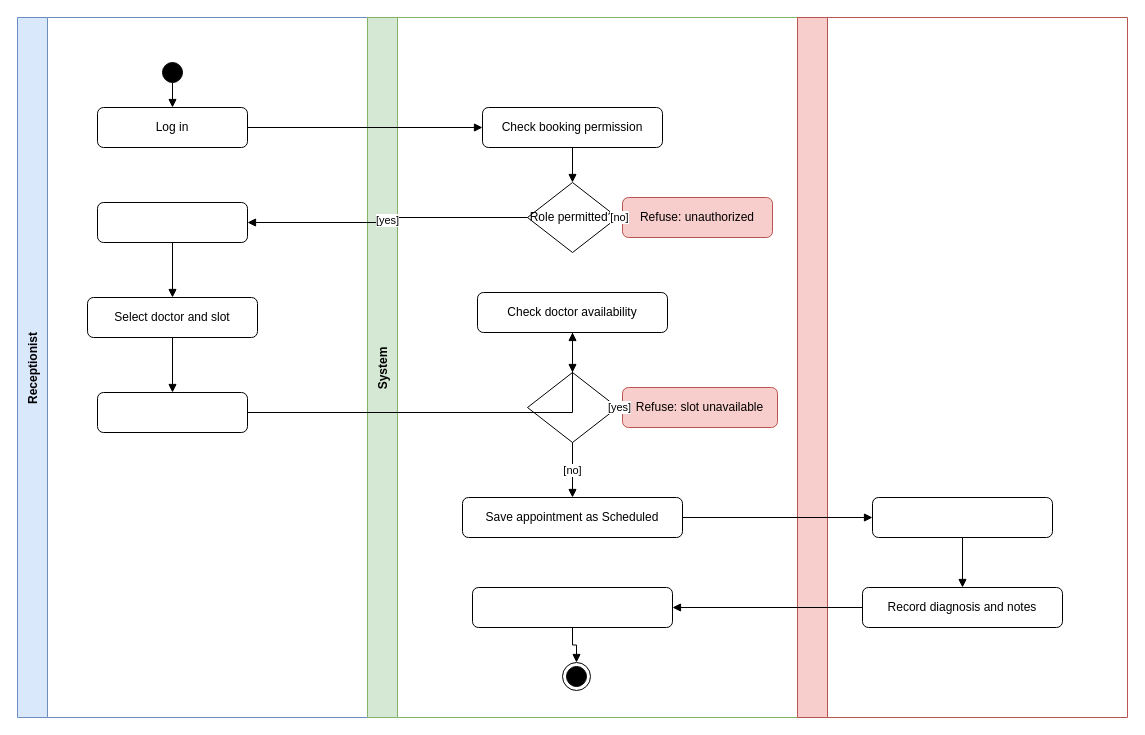
Some shapes in this 1145 by 735 pixel diagram are drawn without their labels. The box of each missing label's shape, as (x1, y1, x2, y2) in pixels:
Doctor: (796, 16, 1128, 718)
Mark appointment Completed: (472, 586, 672, 628)
Search for patient: (96, 202, 248, 242)
See appointment in list: (872, 496, 1052, 538)
Slot already taken?: (526, 372, 618, 442)
Submit booking: (96, 392, 248, 432)
